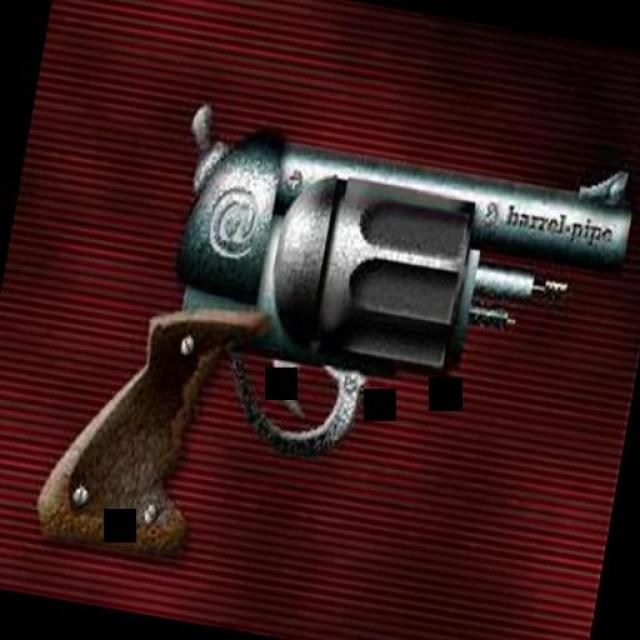gun: (10, 78, 640, 638)
